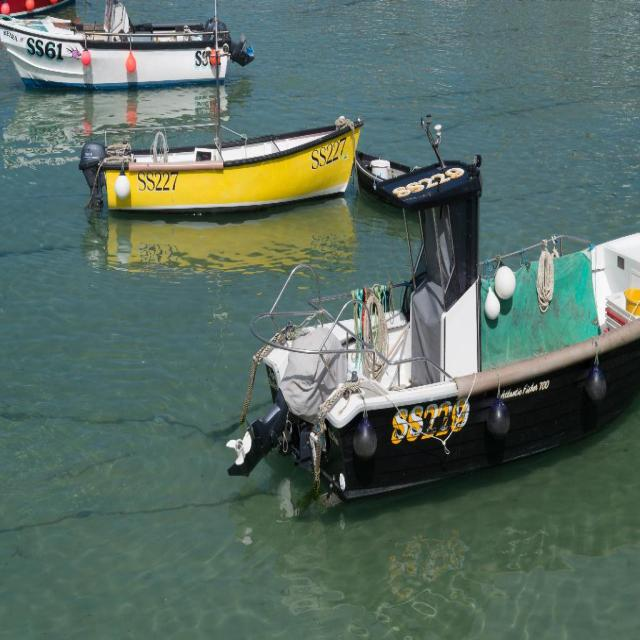Boat: (226, 26, 640, 515), (76, 110, 371, 224), (0, 0, 240, 86)
